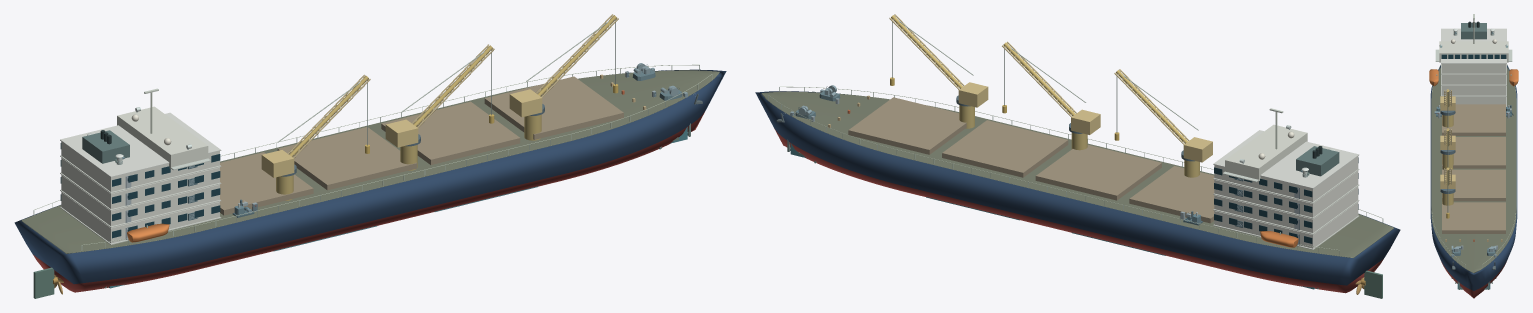
The model's file is bbc-bangkok.lod1.glb.
3 renders of one model, left to right at view 1: azimuth 30°, elevation 25°; view 2: azimuth 150°, elevation 25°; view 3: azimuth 270°, elevation 25°, orthographic. The views are drawn at different scales.
Visible parts, largest first — view 1: bbc-bangkok.structure.hull.outer-hull-shell.1, bbc-bangkok.structure.decks.main-strength-deck.1, bbc-bangkok.cargo.hatches.hatch-cover-2.1, bbc-bangkok.structure.hull.antifouling-underwater-shell.1, bbc-bangkok.cargo.hatches.hatch-cover-3.1, bbc-bangkok.cargo.hatches.hatch-cover-4.1, bbc-bangkok.cargo.hatches.hatch-cover-1.1, bbc-bangkok.navigation.bridge.wheelhouse.1, bbc-bangkok.accommodation.superstructure.superstructure-weat, bbc-bangkok.accommodation.superstructure.deck-3-enclosure.1, bbc-bangkok.accommodation.superstructure.deck-2-enclosure.1, bbc-bangkok.accommodation.superstructure.deck-1-enclosure.1 (+10 smaller); view 2: bbc-bangkok.structure.hull.outer-hull-shell.1, bbc-bangkok.structure.decks.main-strength-deck.1, bbc-bangkok.cargo.hatches.hatch-cover-3.1, bbc-bangkok.cargo.hatches.hatch-cover-2.1, bbc-bangkok.cargo.hatches.hatch-cover-4.1, bbc-bangkok.structure.hull.antifouling-underwater-shell.1, bbc-bangkok.cargo.hatches.hatch-cover-1.1, bbc-bangkok.navigation.bridge.wheelhouse.1, bbc-bangkok.accommodation.superstructure.superstructure-weat, bbc-bangkok.accommodation.superstructure.deck-3-enclosure.1, bbc-bangkok.accommodation.superstructure.deck-2-enclosure.1, bbc-bangkok.accommodation.superstructure.deck-1-enclosure.1 (+10 smaller); view 3: bbc-bangkok.structure.decks.main-strength-deck.1, bbc-bangkok.structure.hull.outer-hull-shell.1, bbc-bangkok.cargo.hatches.hatch-cover-4.1, bbc-bangkok.cargo.hatches.hatch-cover-3.1, bbc-bangkok.cargo.hatches.hatch-cover-1.1, bbc-bangkok.cargo.hatches.hatch-cover-2.1, bbc-bangkok.navigation.bridge.wheelhouse.1, bbc-bangkok.accommodation.superstructure.superstructure-weat, bbc-bangkok.accommodation.superstructure.deck-3-enclosure.1, bbc-bangkok.accommodation.superstructure.deck-2-enclosure.1, bbc-bangkok.accommodation.superstructure.deck-4-enclosure.1, bbc-bangkok.accommodation.superstructure.deck-1-enclosure.1 (+16 smaller).
Boxes of the visible parts, x1,y1,x2,y2 form: bbc-bangkok.structure.hull.outer-hull-shell.1: [14, 69, 726, 284]; bbc-bangkok.structure.decks.main-strength-deck.1: [21, 70, 719, 253]; bbc-bangkok.cargo.hatches.hatch-cover-2.1: [277, 127, 416, 190]; bbc-bangkok.structure.hull.antifouling-underwater-shell.1: [33, 112, 704, 292]; bbc-bangkok.cargo.hatches.hatch-cover-3.1: [381, 101, 520, 164]; bbc-bangkok.cargo.hatches.hatch-cover-4.1: [484, 76, 623, 139]; bbc-bangkok.cargo.hatches.hatch-cover-1.1: [220, 152, 313, 215]; bbc-bangkok.navigation.bridge.wheelhouse.1: [117, 106, 208, 169]; bbc-bangkok.accommodation.superstructure.superstructure-weat: [60, 112, 221, 177]; bbc-bangkok.accommodation.superstructure.deck-3-enclosure.1: [61, 157, 219, 208]; bbc-bangkok.accommodation.superstructure.deck-2-enclosure.1: [61, 175, 219, 226]; bbc-bangkok.accommodation.superstructure.deck-1-enclosure.1: [61, 192, 219, 243]; bbc-bangkok.structure.hull.outer-hull-shell.1: [755, 91, 1400, 285]; bbc-bangkok.structure.decks.main-strength-deck.1: [761, 91, 1393, 258]; bbc-bangkok.cargo.hatches.hatch-cover-3.1: [942, 120, 1068, 177]; bbc-bangkok.cargo.hatches.hatch-cover-2.1: [1035, 145, 1161, 200]; bbc-bangkok.cargo.hatches.hatch-cover-4.1: [848, 97, 966, 154]; bbc-bangkok.structure.hull.antifouling-underwater-shell.1: [774, 128, 1383, 293]; bbc-bangkok.cargo.hatches.hatch-cover-1.1: [1129, 166, 1214, 223]; bbc-bangkok.navigation.bridge.wheelhouse.1: [1225, 124, 1307, 181]; bbc-bangkok.accommodation.superstructure.superstructure-weat: [1213, 130, 1359, 188]; bbc-bangkok.accommodation.superstructure.deck-3-enclosure.1: [1214, 171, 1358, 217]; bbc-bangkok.accommodation.superstructure.deck-2-enclosure.1: [1214, 186, 1358, 232]; bbc-bangkok.accommodation.superstructure.deck-1-enclosure.1: [1214, 202, 1358, 248]; bbc-bangkok.structure.decks.main-strength-deck.1: [1431, 67, 1516, 273]; bbc-bangkok.structure.hull.outer-hull-shell.1: [1430, 65, 1517, 290]; bbc-bangkok.cargo.hatches.hatch-cover-4.1: [1442, 202, 1505, 233]; bbc-bangkok.cargo.hatches.hatch-cover-3.1: [1442, 169, 1505, 201]; bbc-bangkok.cargo.hatches.hatch-cover-1.1: [1442, 104, 1505, 135]; bbc-bangkok.cargo.hatches.hatch-cover-2.1: [1442, 137, 1505, 168]; bbc-bangkok.navigation.bridge.wheelhouse.1: [1439, 41, 1508, 62]; bbc-bangkok.accommodation.superstructure.superstructure-weat: [1441, 28, 1506, 63]; bbc-bangkok.accommodation.superstructure.deck-3-enclosure.1: [1441, 74, 1506, 84]; bbc-bangkok.accommodation.superstructure.deck-2-enclosure.1: [1441, 85, 1506, 95]; bbc-bangkok.accommodation.superstructure.deck-4-enclosure.1: [1441, 64, 1506, 73]; bbc-bangkok.accommodation.superstructure.deck-1-enclosure.1: [1455, 96, 1506, 106].
Bounding box in the file's own units: 120 × 29.77 × 20.78.
